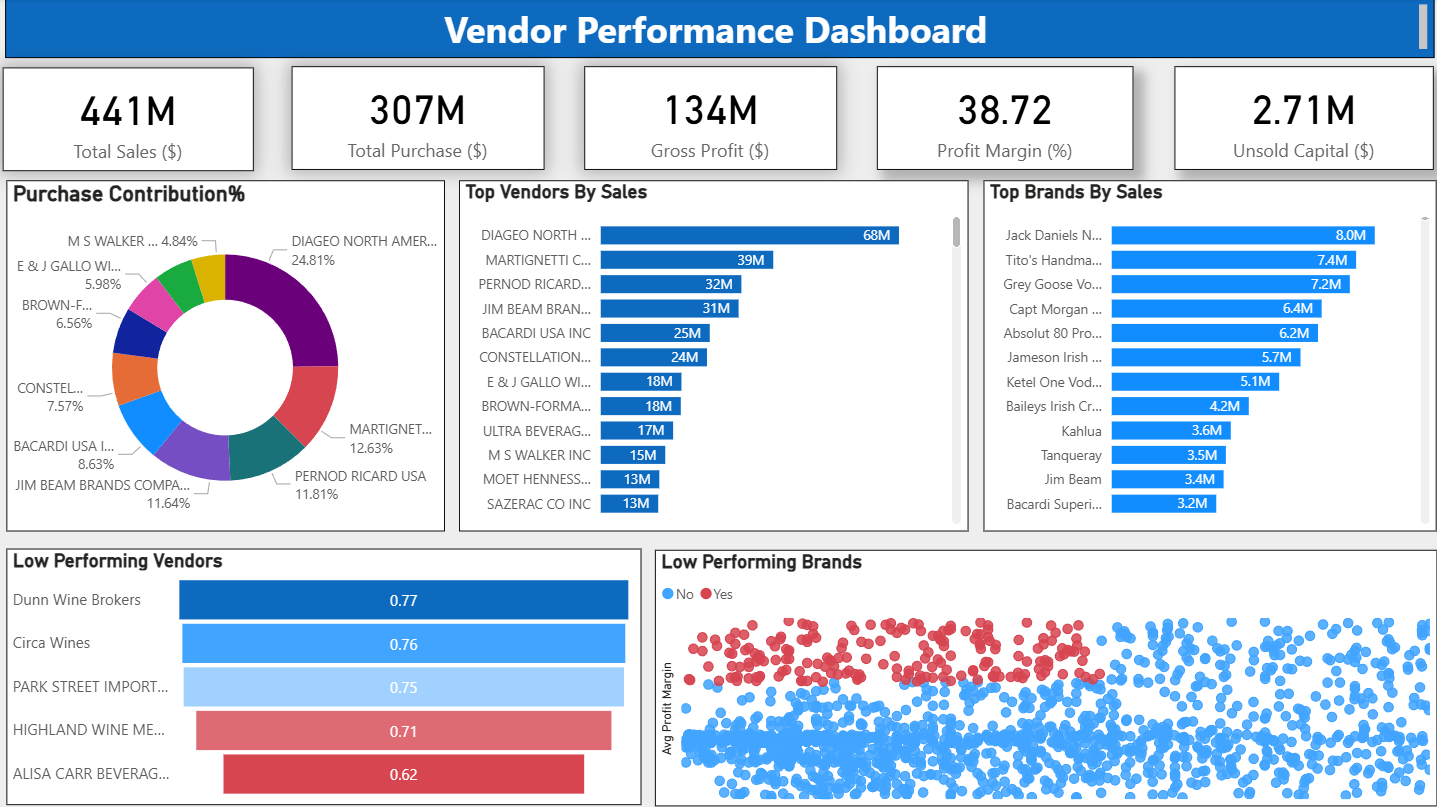

The page's visual inventory and layout, read from the dashboard file:
{"tool":"powerbi","page":{"name":"Page 1","canvas":[1280,720],"ordinal":0},"visuals":[{"type":"textbox","box":[9.7,0,1270.4,53.2],"z":0},{"type":"card","fields":{"Values":["Vendor_Summary_table.TotalSalesDollars"]},"box":[8,61.2,222.6,92],"z":1000},{"type":"card","fields":{"Values":["Vendor_Summary_table.TotalPurchaseDollars"]},"box":[264,61,223.8,91.9],"z":2000},{"type":"card","fields":{"Values":["Vendor_Summary_table.GrossProfit"]},"box":[522.9,61,223.8,91.9],"z":3000},{"type":"card","fields":{"Values":["Vendor_Summary_table.ProfitMargin"]},"box":[783,61,227.5,91.9],"z":4000},{"type":"card","fields":{"Values":["Vendor_Summary_table.UnsoldCapital"]},"box":[1046.1,60.9,229.9,91.9],"z":5000},{"type":"donutChart","title":"Purchase Contribution%","fields":{"Category":["Top10PurchaseContribution.VendorName"],"Y":["Top10PurchaseContribution.PurchaseContribution%"]},"box":[10.9,161.8,388.4,311],"z":6000},{"type":"clusteredBarChart","title":"Top Vendors By Sales","fields":{"Category":["Vendor_Summary_table.VendorName"],"Y":["Vendor_Summary_table.TotalSalesDollars"]},"box":[412.6,161.8,451.3,311],"z":7000},{"type":"clusteredBarChart","title":"Top Brands By Sales","fields":{"Category":["Vendor_Summary_table.Description"],"Y":["Vendor_Summary_table.TotalSalesDollars"]},"box":[877.2,161.8,401.7,311],"z":8000},{"type":"funnel","title":"Low Performing Vendors","fields":{"Category":["LowTurnoverVendor.VendorName"],"Y":["LowTurnoverVendor.AvgStockTurnOver"]},"box":[10.9,487.6,562.6,227.5],"z":9000},{"type":"scatterChart","title":"Low Performing Brands","fields":{"Category":["BrandPerformance.Description"],"X":["BrandPerformance.Total Sales"],"Series":["BrandPerformance.TargetBrand"],"Y":["BrandPerformance.AvgProfitMargin"]},"box":[585.6,488.8,693.3,227.5],"z":10000}]}

Visuals, with their boxes in screenshot pixels (x1, y1, x2, y2), scaled from the page's 1280x720 canvas onto the 1437x807 screenshot:
textbox: left=11, top=0, right=1436, bottom=60
card - Vendor_Summary_table.TotalSalesDollars: left=9, top=69, right=259, bottom=172
card - Vendor_Summary_table.TotalPurchaseDollars: left=296, top=68, right=548, bottom=171
card - Vendor_Summary_table.GrossProfit: left=587, top=68, right=838, bottom=171
card - Vendor_Summary_table.ProfitMargin: left=879, top=68, right=1134, bottom=171
card - Vendor_Summary_table.UnsoldCapital: left=1174, top=68, right=1433, bottom=171
"Purchase Contribution%" donutChart: left=12, top=181, right=448, bottom=530
"Top Vendors By Sales" clusteredBarChart: left=463, top=181, right=970, bottom=530
"Top Brands By Sales" clusteredBarChart: left=985, top=181, right=1436, bottom=530
"Low Performing Vendors" funnel: left=12, top=547, right=644, bottom=802
"Low Performing Brands" scatterChart: left=657, top=548, right=1436, bottom=803
